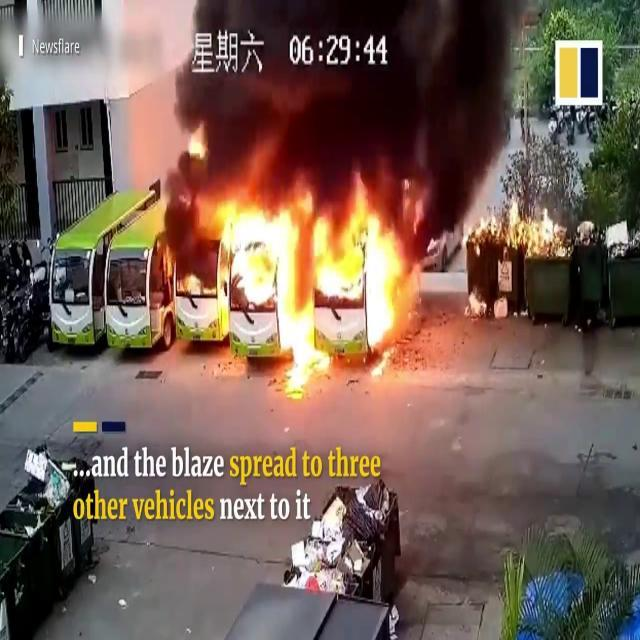Fire: (206, 216, 416, 378), (468, 194, 568, 258)
Smoke: (117, 0, 521, 216)
